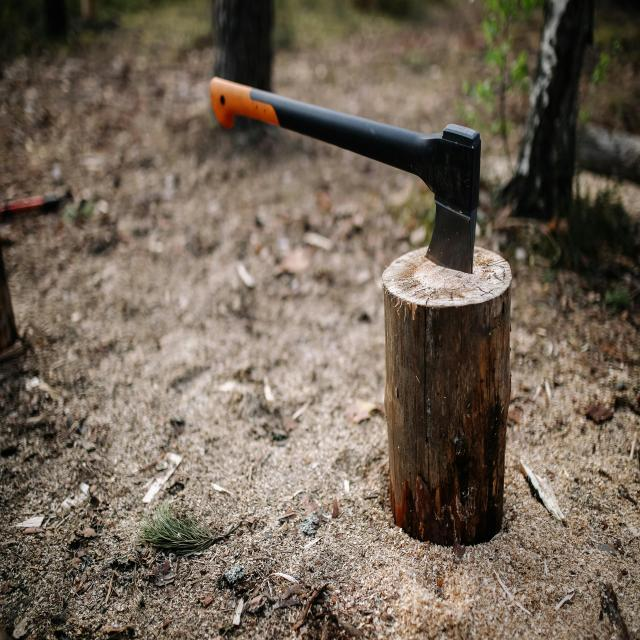Axe: (211, 78, 481, 272)
